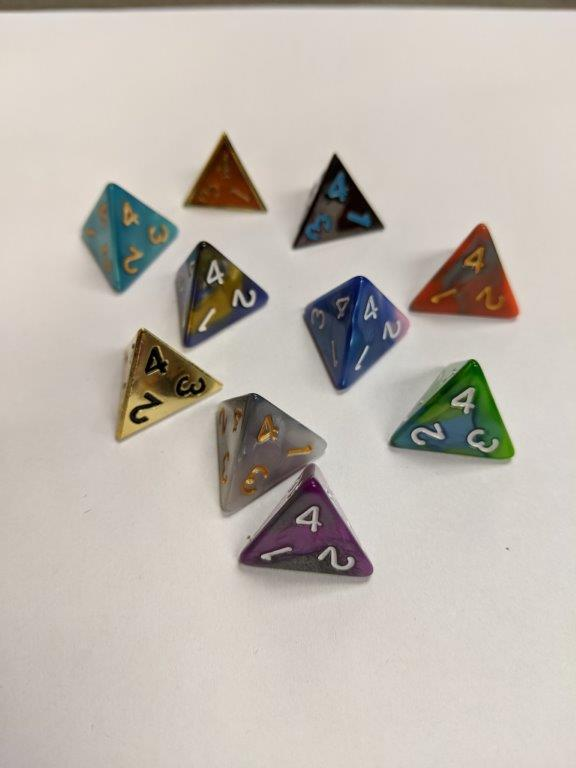d4-4: (231, 460, 379, 581), (209, 391, 329, 516), (388, 358, 519, 465), (112, 326, 225, 445), (304, 274, 410, 390), (409, 220, 522, 326), (75, 181, 179, 294), (170, 238, 270, 354), (291, 151, 385, 253), (180, 131, 265, 214)
